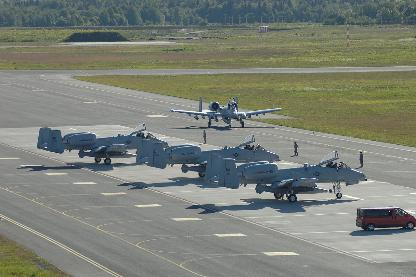A10: (203, 150, 367, 201), (136, 134, 280, 177), (36, 122, 170, 163), (168, 96, 282, 128)
